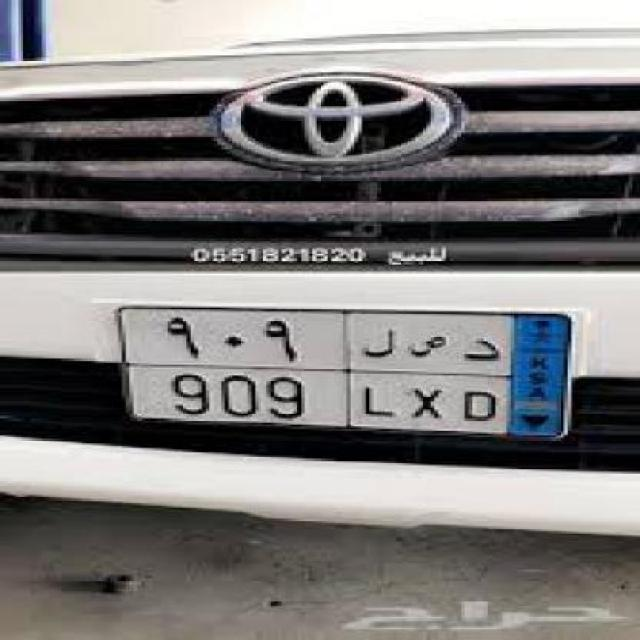license_plate: (110, 303, 579, 442)
